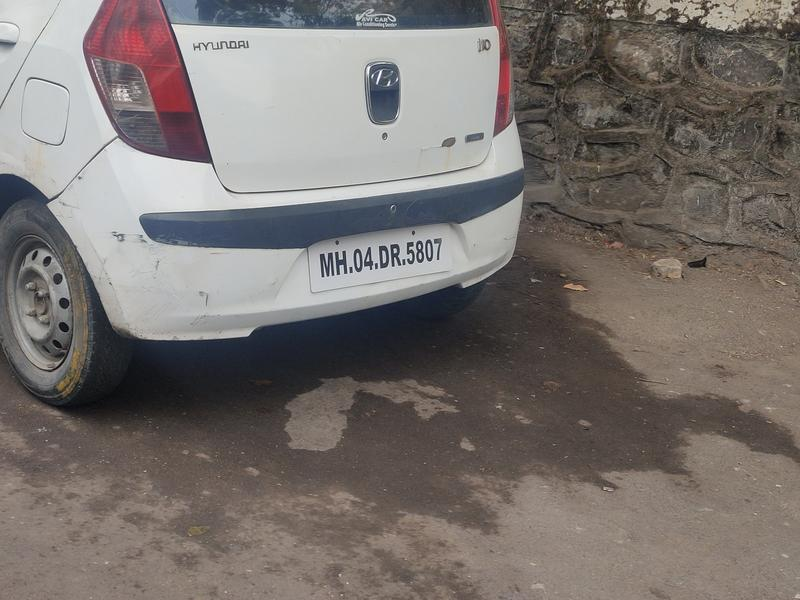license_plate: (304, 218, 472, 298)
